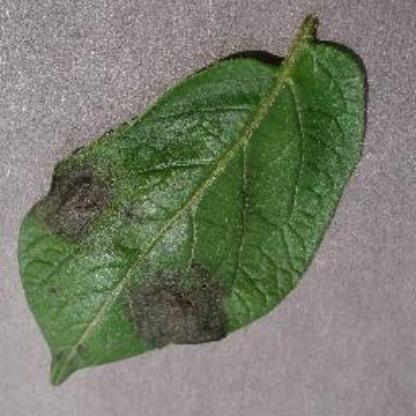Late-Blight: (13, 7, 374, 384)
